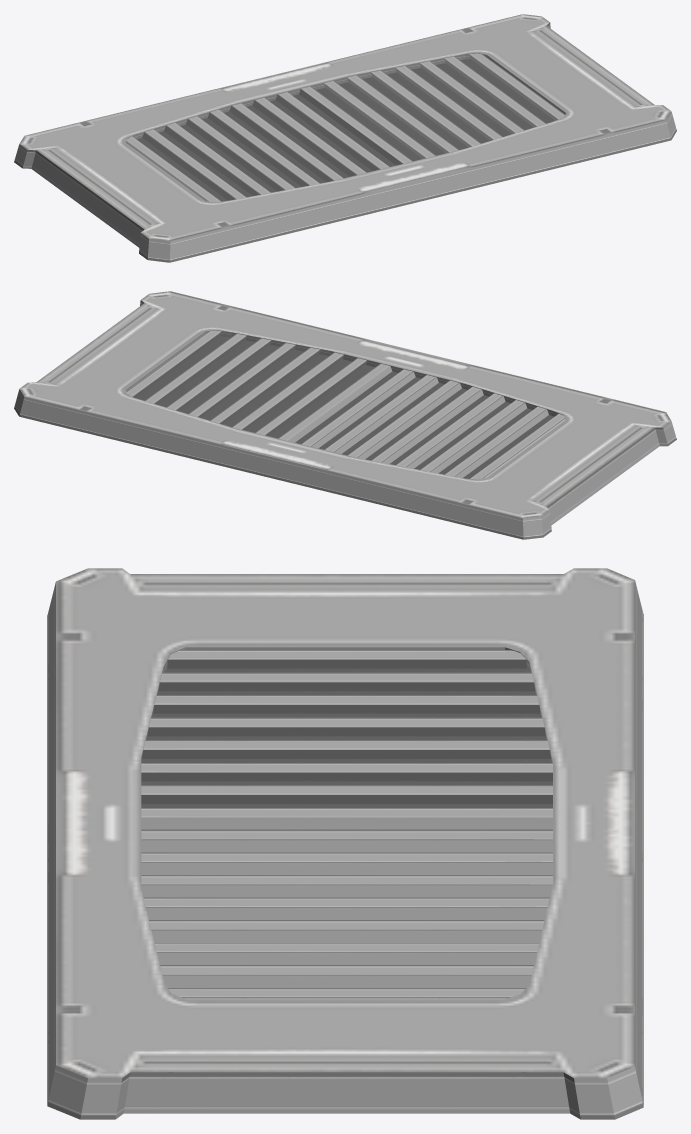
Rendered from roof-vent.glb.
3 renders of one model, top to bottom at view 1: azimuth 30°, elevation 25°; view 2: azimuth 150°, elevation 25°; view 3: azimuth 270°, elevation 25°, orthographic. The views are drawn at different scales.
Parts seen in each view (by area): view 1: Prop_Vent_Big; view 2: Prop_Vent_Big; view 3: Prop_Vent_Big.
Boxes of the visible parts, x1=… form: Prop_Vent_Big: x1=14, y1=14, x2=676, y2=262; Prop_Vent_Big: x1=14, y1=291, x2=676, y2=539; Prop_Vent_Big: x1=47, y1=568, x2=643, y2=1119.
Size of the model in its own units: 2 by 0.0689 by 0.9763.
2 materials, 2 textured.
